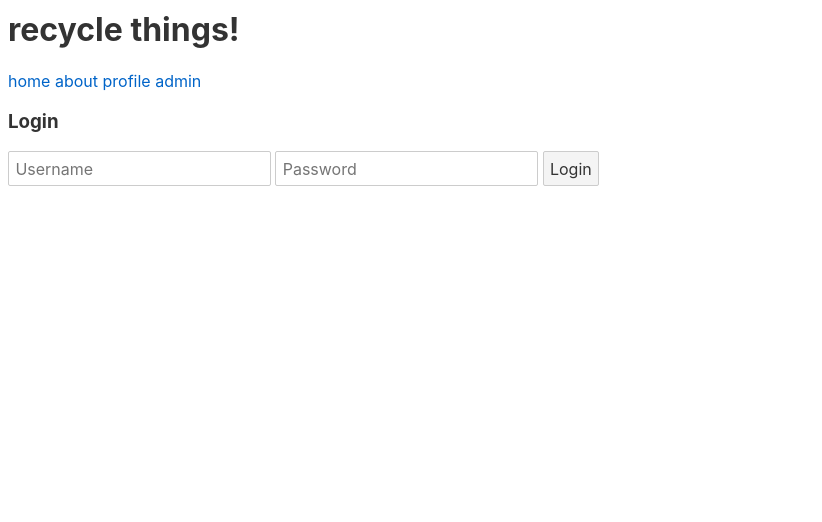
Test: App.svelte › Routing: › GIVEN: The user is not logged in, › WHEN: The user is logged in, › WHEN: Nav bar links lead to both protected and non-protected routes, › THEN: the user clicks admin and is routed to admin-page
Click the link "admin" at (178, 81), box [155,71,201,91]
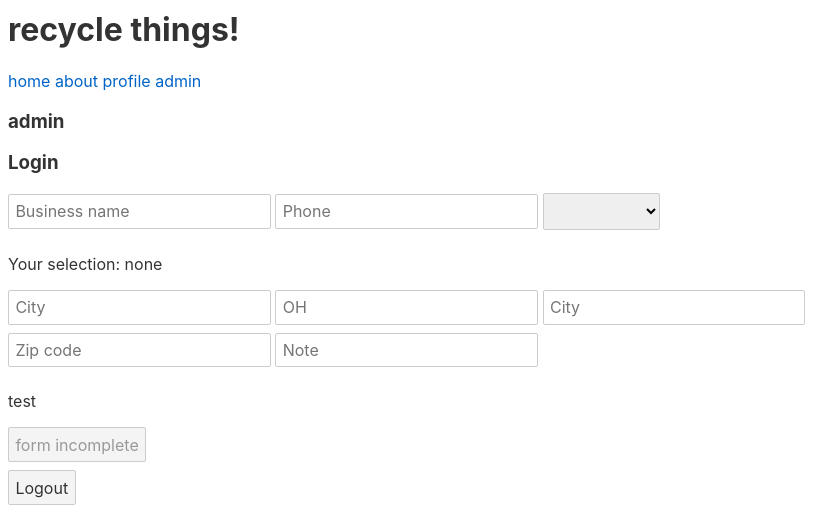
Now the element with test id "admin-page" is shown
